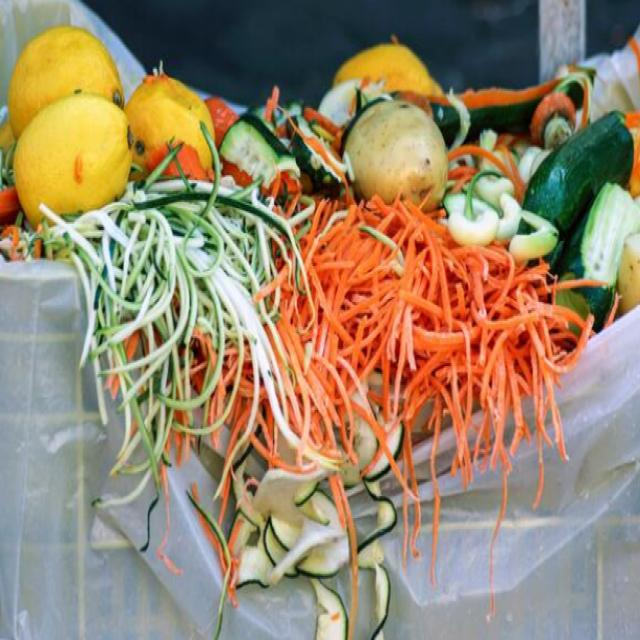paper: (344, 94, 474, 242), (525, 92, 635, 240), (17, 104, 131, 230), (311, 240, 394, 354), (13, 34, 124, 118), (145, 227, 230, 317)
